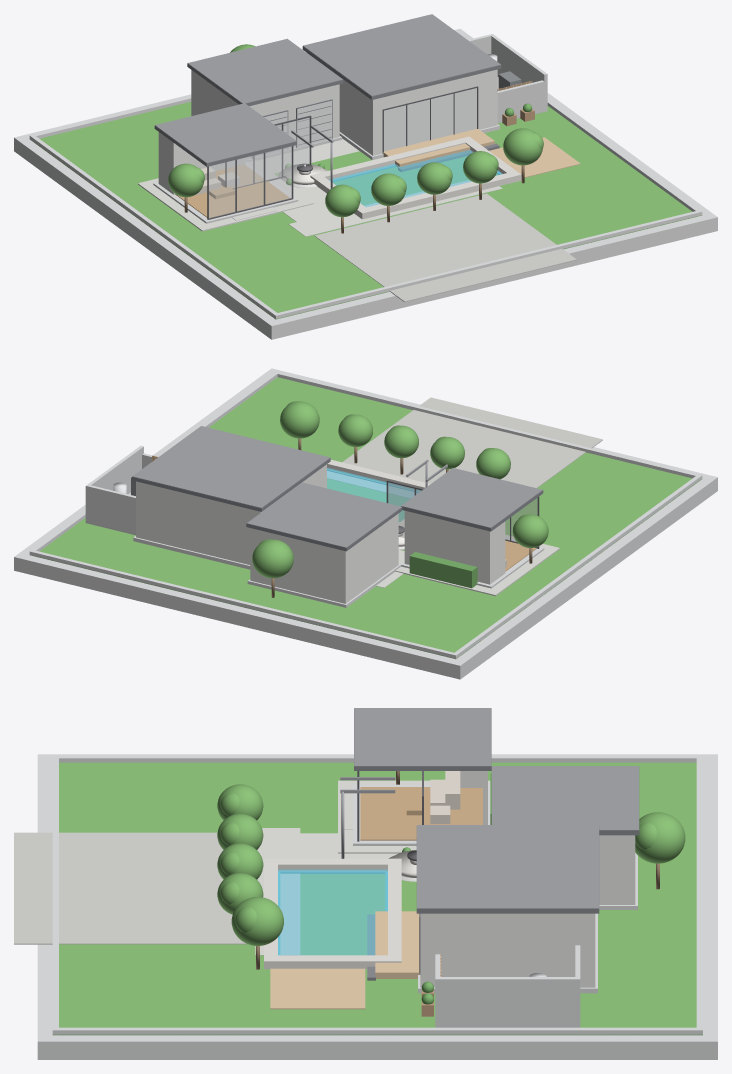
Rendered from designer_house_plan.glb.
3 views of the same model, one above another, from view 1: azimuth 30°, elevation 25°; view 2: azimuth 150°, elevation 25°; view 3: azimuth 270°, elevation 25° (orthographic). The views are drawn at different scales.
Parts seen in each view (by area): view 1: Site_Main_Lawn, Forecourt_Plaza, Site_Base_Plinth, House_Roof_Top, House_Main_Walls, Garage_Roof_Deck, Pavilion_Roof_Deck, Pavilion_South_Glass_glass, House_South_Glazing_glass, Garage_Walls, Perimeter_S, Pavilion_East_Glass_glass (+29 smaller); view 2: Site_Main_Lawn, Site_Base_Plinth, Forecourt_Plaza, House_Roof_Top, House_Main_Walls, Garage_Walls, Garage_Roof_Deck, Pavilion_Roof_Deck, Pavilion_Back_Wall, Perimeter_N, Perimeter_S, Yard_Wall_N (+22 smaller); view 3: Site_Main_Lawn, Site_Base_Plinth, Forecourt_Plaza, House_Roof_Top, House_Main_Walls, Pool_Water_Surface, Garage_Roof_Deck, Pavilion_Roof_Deck, Yard_Wall_E, Perimeter_E, Pavilion_Interior_Floor, Sunbathing_Beige_Deck (+22 smaller).
Boxes of the visible parts, x1,y1,x2,y2 form: Site_Main_Lawn: [33, 101, 702, 319]; Forecourt_Plaza: [315, 193, 576, 302]; Site_Base_Plinth: [14, 28, 717, 339]; House_Roof_Top: [303, 14, 500, 96]; House_Main_Walls: [307, 53, 497, 155]; Garage_Roof_Deck: [187, 38, 342, 103]; Pavilion_Roof_Deck: [155, 103, 296, 163]; Pavilion_South_Glass_glass: [209, 146, 291, 218]; House_South_Glazing_glass: [384, 88, 476, 150]; Garage_Walls: [191, 70, 339, 159]; Perimeter_S: [273, 210, 702, 318]; Pavilion_East_Glass_glass: [227, 117, 309, 188]; Site_Main_Lawn: [31, 377, 701, 658]; Site_Base_Plinth: [14, 368, 717, 679]; Forecourt_Plaza: [342, 397, 602, 488]; House_Roof_Top: [132, 426, 330, 508]; House_Main_Walls: [136, 464, 326, 564]; Garage_Walls: [250, 513, 398, 603]; Garage_Roof_Deck: [247, 482, 401, 547]; Pavilion_Roof_Deck: [401, 468, 542, 527]; Pavilion_Back_Wall: [404, 510, 491, 584]; Perimeter_N: [29, 550, 458, 658]; Perimeter_S: [274, 371, 701, 478]; Yard_Wall_N: [85, 484, 135, 534]; Site_Main_Lawn: [53, 762, 702, 1035]; Site_Base_Plinth: [37, 754, 717, 1059]; Forecourt_Plaza: [14, 832, 247, 944]; House_Roof_Top: [417, 825, 598, 908]; House_Main_Walls: [420, 913, 595, 987]; Pool_Water_Surface: [278, 869, 387, 955]; Garage_Roof_Deck: [492, 766, 638, 830]; Pavilion_Roof_Deck: [354, 708, 491, 766]; Yard_Wall_E: [435, 977, 580, 1027]; Perimeter_E: [52, 1027, 701, 1035]; Pavilion_Interior_Floor: [360, 787, 482, 840]; Sunbathing_Beige_Deck: [270, 968, 365, 1009].
Bounding box in the file's own units: 27.2 × 5.21 × 28.15.
